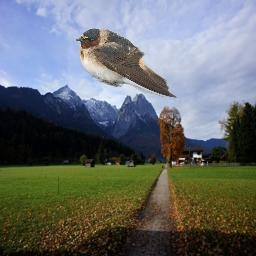Swallow: (75, 28, 177, 98)
